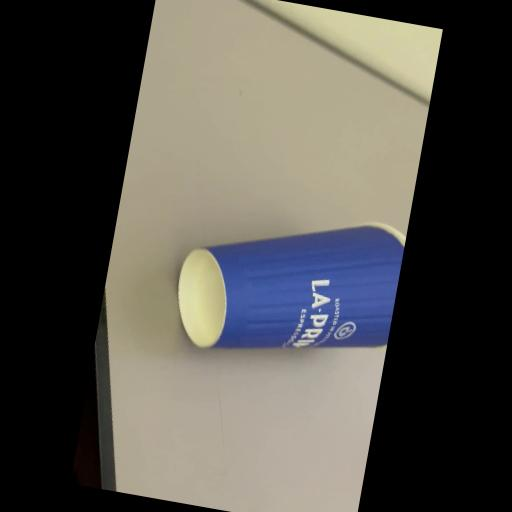lp_paper_cup: (158, 182, 406, 382)
